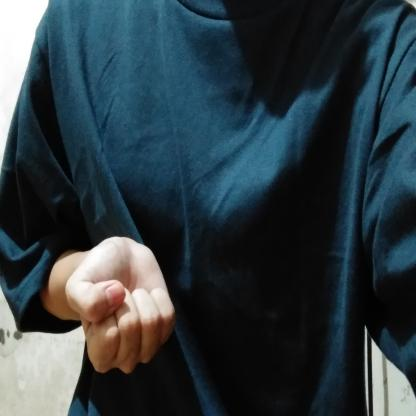where: (38, 227, 188, 394)
